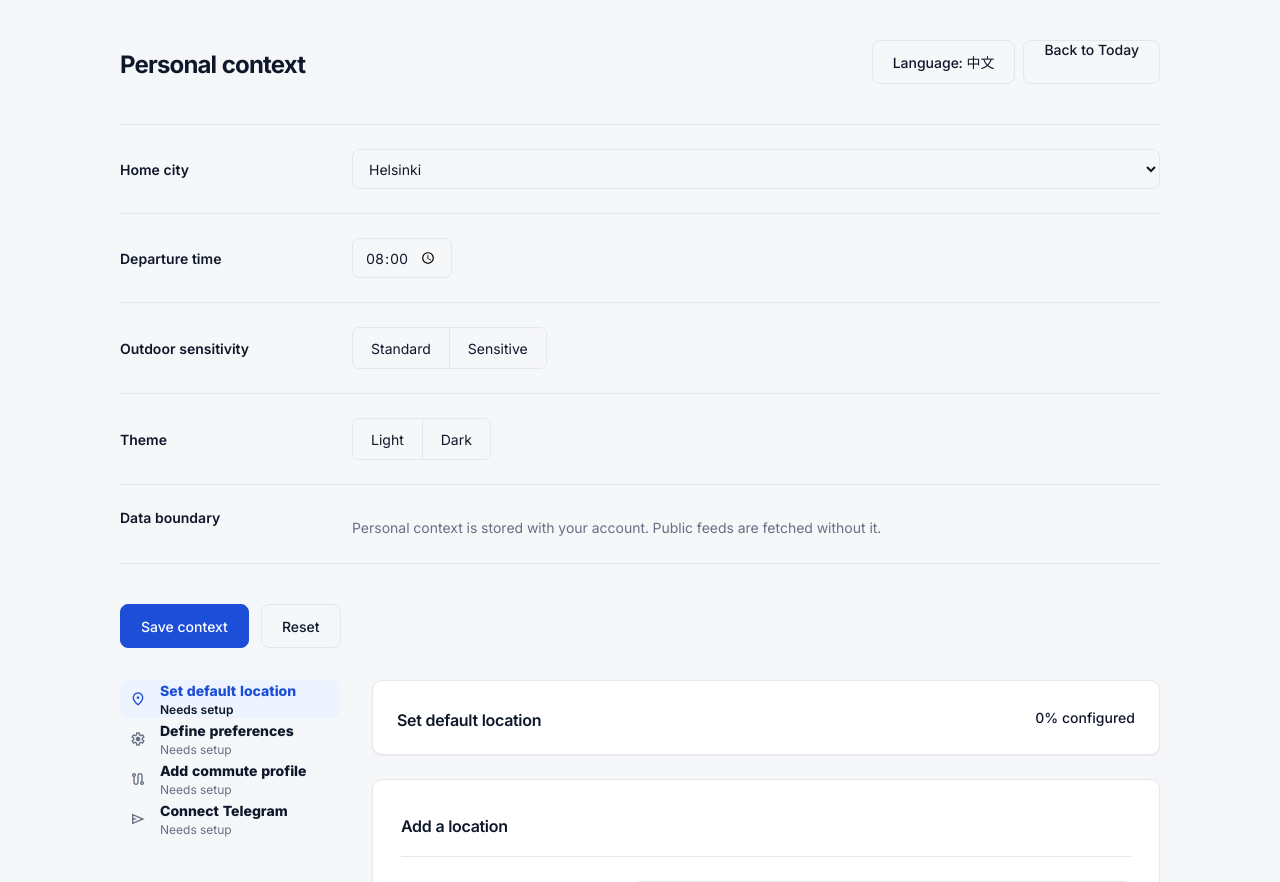
Test: PersonalSettingsPage › keeps setup focused while exposing the four personal context steps
The image size is (1280, 882).
Later steps or results of the test are not shown.
expect the heading "Personal context" is shown: met, box [120,52,305,78]
expect the button "Set default location Needs setup" is shown: met, box [120,680,340,718]
Click the button "Dark": (456, 439) [423,419,490,459]
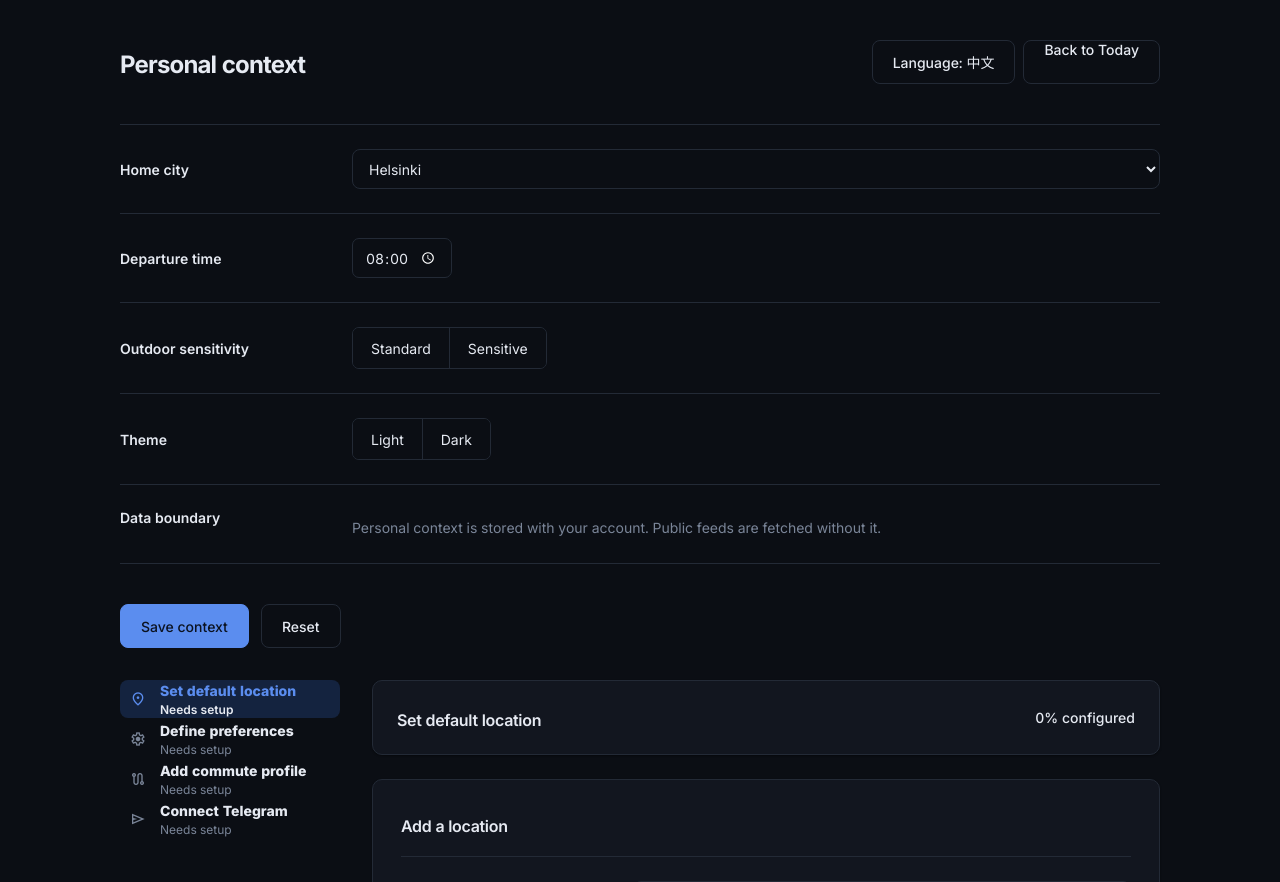
expect the button "Dark" is pressed: met, box [423,419,490,459]
expect the button "Light" is not pressed: met, box [353,419,423,459]
